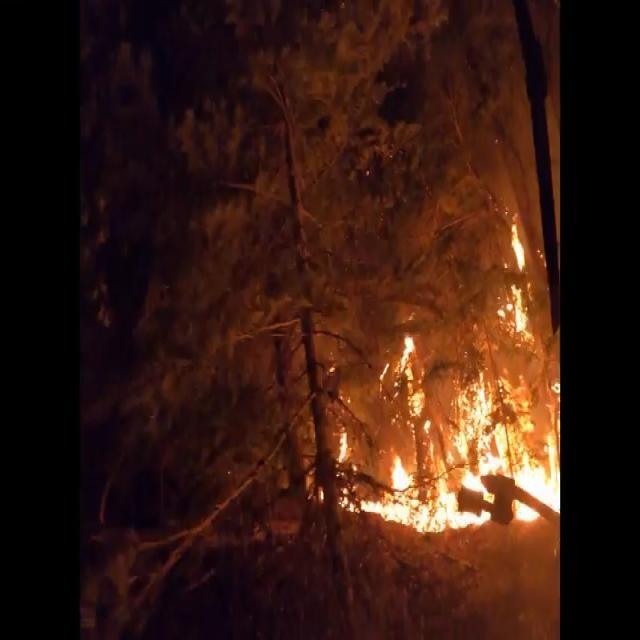Fire: (329, 205, 559, 537)
